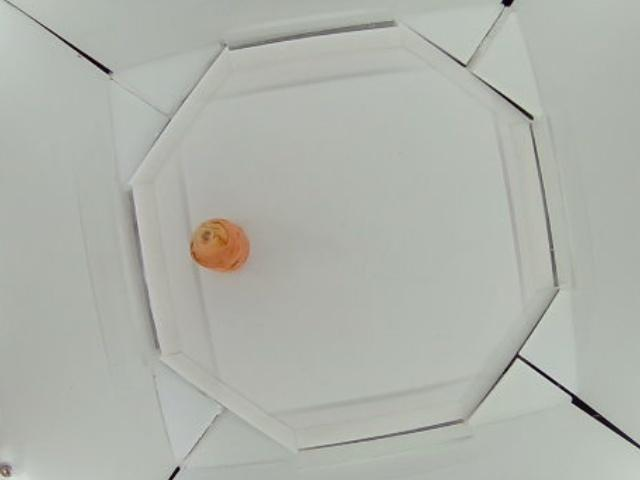Carrot: (187, 216, 251, 273)
